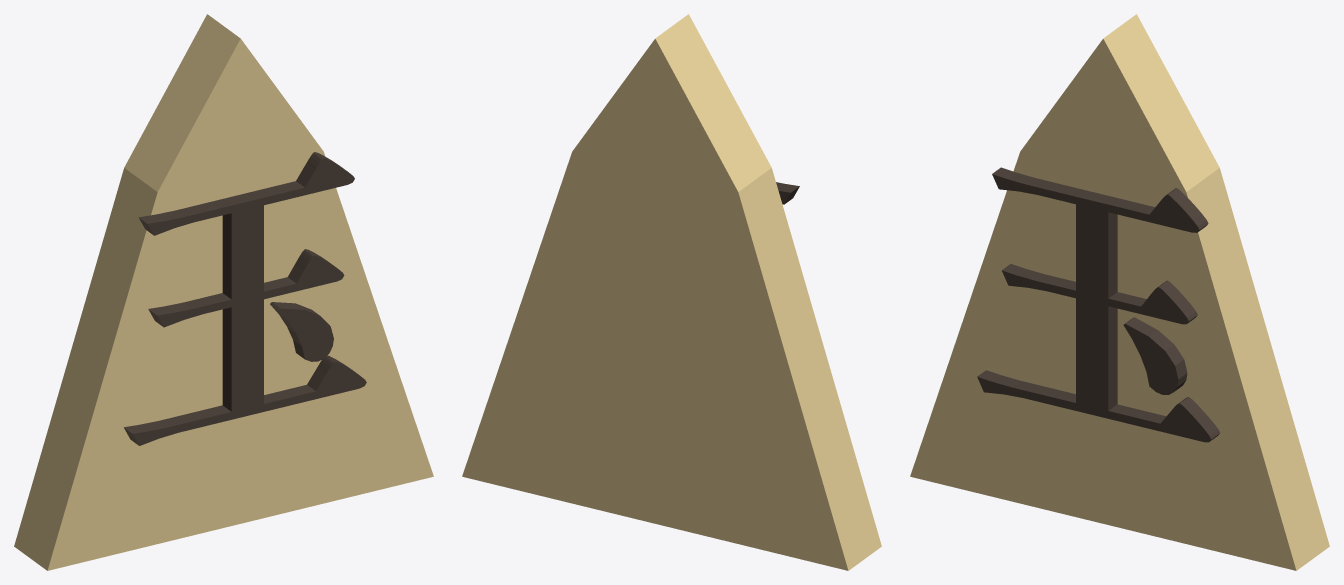
The model's file is koma-gyoku.glb.
The picture shows the model from 3 angles, left to right: view 1: azimuth 30°, elevation 25°; view 2: azimuth 150°, elevation 25°; view 3: azimuth 330°, elevation 25°; orthographic projection.
Visible parts, largest first — view 1: world; view 2: world; view 3: world.
Boxes of the visible parts, x1=… form: world: x1=14, y1=14, x2=433, y2=570; world: x1=462, y1=14, x2=881, y2=570; world: x1=910, y1=14, x2=1329, y2=570.
Size of the model in its own units: 2 by 2.4 by 0.3811.
